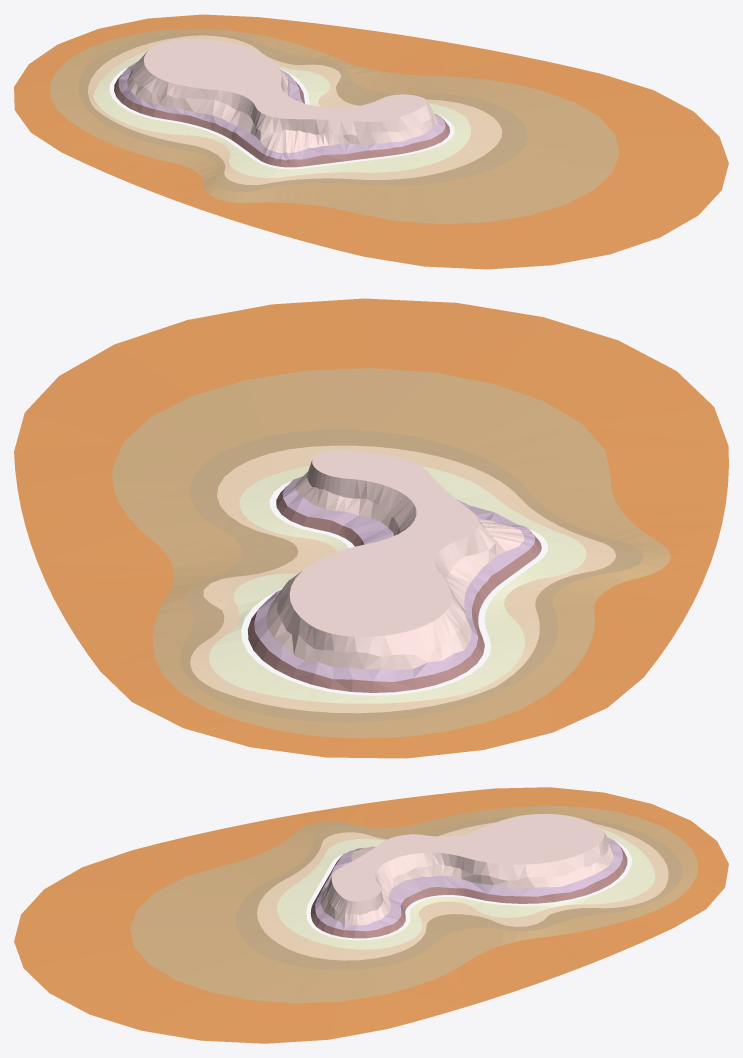
The model's file is Island TEST Terrain.fbx.
The picture shows the model from 3 angles, top to bottom: view 1: azimuth 30°, elevation 25°; view 2: azimuth 150°, elevation 25°; view 3: azimuth 270°, elevation 25°; orthographic projection. The views are drawn at different scales.
Parts seen in each view (by area): view 1: _(Loose Entity); view 2: _(Loose Entity); view 3: _(Loose Entity).
Boxes of the visible parts, <box> form: _(Loose Entity): <box>14,14,728,269</box>; _(Loose Entity): <box>14,298,728,758</box>; _(Loose Entity): <box>14,787,728,1043</box>.
Size of the model in its own units: 269176 by 16500 by 319561.
